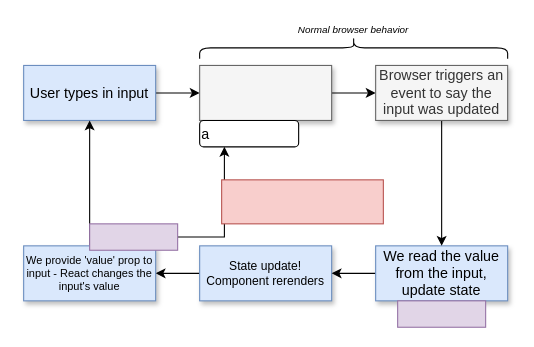
The diagram is 534 pixels wide and 347 high, and some of its shapes have lost their labels. The shapes that lost their labels are listed below. From the top down, each one's centre as x and y in pixels, then its label:
(266,94): Browser updates the text in the input
(302,201): I'm React! I'm helping!!!
(133,236): term === 'a'
